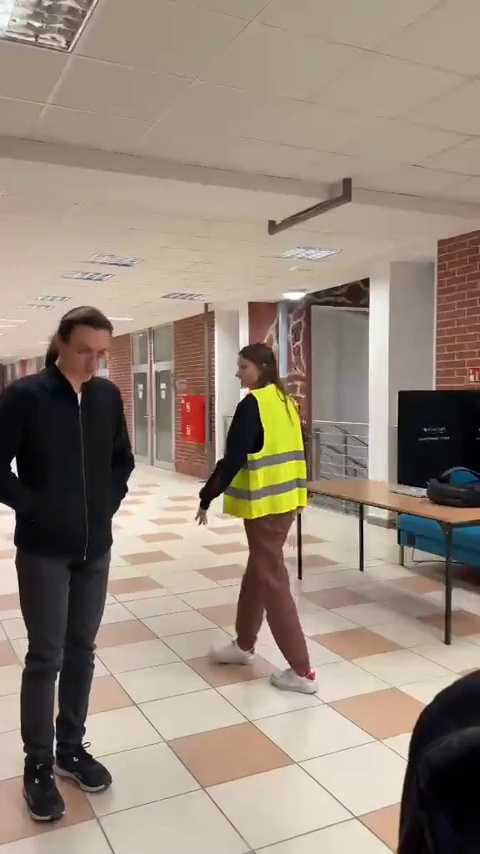no vest: (3, 310, 154, 839)
vest: (198, 340, 320, 689)
